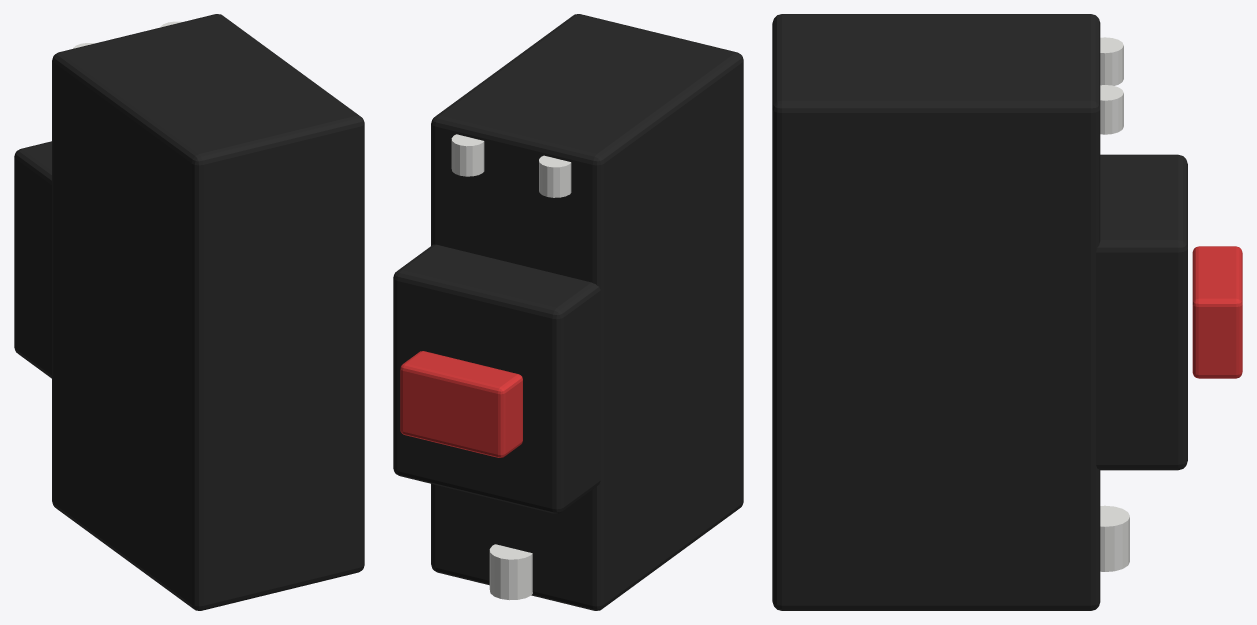
Rendered from generic-spd-dc-2p-1000v.glb.
3 renders of one model, left to right at view 1: azimuth 30°, elevation 25°; view 2: azimuth 150°, elevation 25°; view 3: azimuth 270°, elevation 25°, orthographic. The views are drawn at different scales.
Visible parts, largest first — view 1: body, front; view 2: body, front, toggle, pe-pe, term-l2, term-l1; view 3: body, front, toggle, pe-pe, term-l2, term-l1.
Part boxes in pixels (x1=…): body: x1=52, y1=14, x2=364, y2=610; front: x1=14, y1=141, x2=51, y2=378; body: x1=431, y1=14, x2=743, y2=610; front: x1=393, y1=244, x2=600, y2=513; toggle: x1=400, y1=351, x2=522, y2=457; pe-pe: x1=489, y1=544, x2=532, y2=600; term-l2: x1=451, y1=134, x2=484, y2=176; term-l1: x1=539, y1=155, x2=571, y2=197; body: x1=772, y1=14, x2=1100, y2=610; front: x1=1096, y1=154, x2=1187, y2=470; toggle: x1=1192, y1=246, x2=1242, y2=378; pe-pe: x1=1100, y1=505, x2=1129, y2=571; term-l2: x1=1100, y1=85, x2=1123, y2=134; term-l1: x1=1100, y1=37, x2=1123, y2=85.
Bounding box in the file's own units: 0.0355 × 0.09 × 0.0752.
